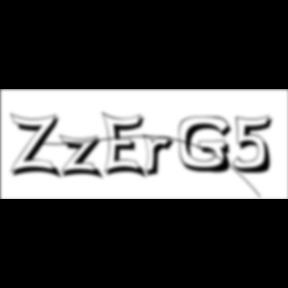5: (232, 114, 278, 176)
E: (102, 110, 150, 182)
G: (178, 116, 238, 176)
Z: (11, 112, 66, 181)
r: (143, 134, 181, 180)
z: (60, 134, 109, 182)
